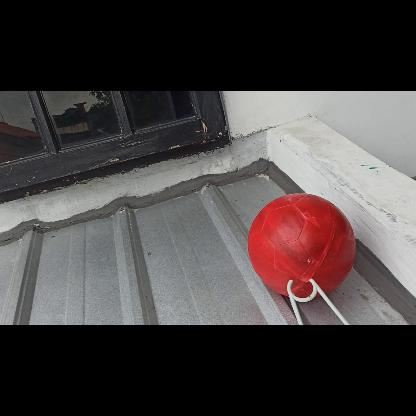red_ball: (250, 193, 356, 299)
